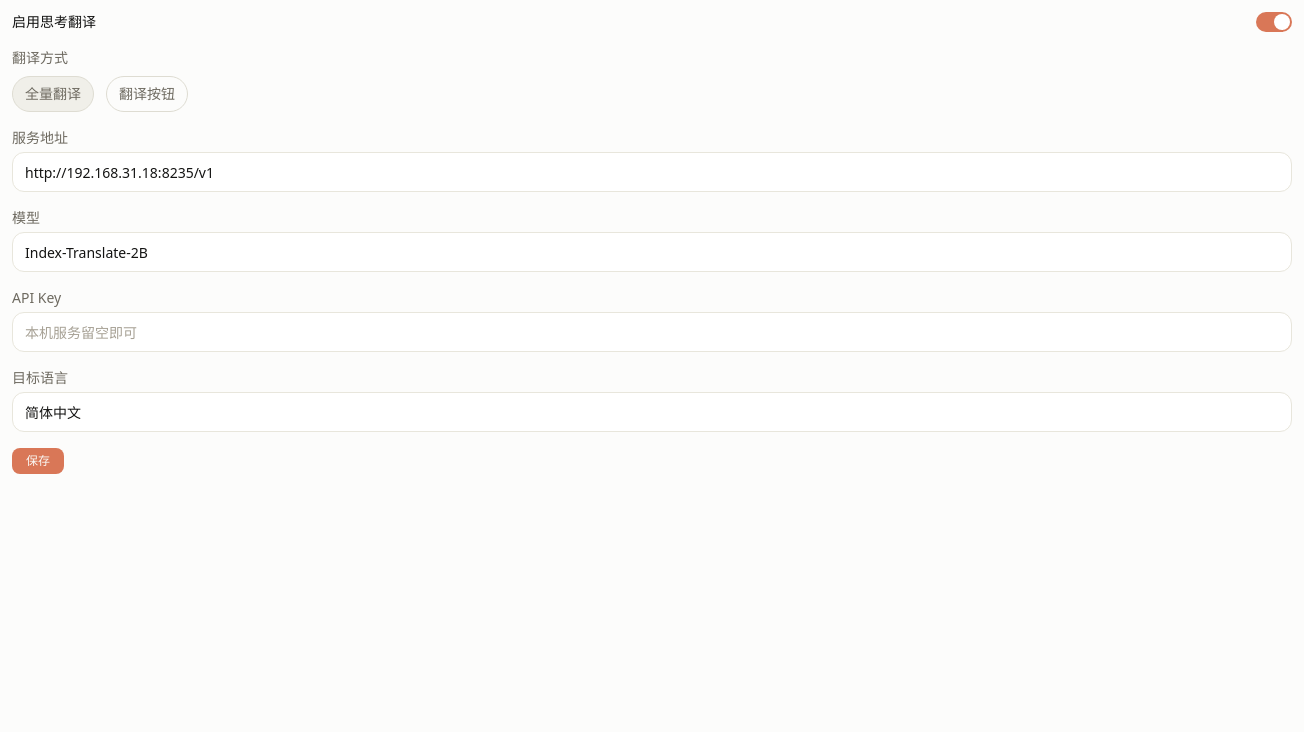
Test: 「思考翻译」组 › 落盘为空串（没配过）时表单先按预置填：贴可选 key 保存，地址与模型一并落盘
This screenshot has width=1304, height=732.
Check: the field with test id "translate-base-url" holds "http://192.168.31.18:8235/v1", box [12,152,1292,192]
Check: the field with test id "translate-model" holds "Index-Translate-2B", box [12,232,1292,272]
Type "sk-translate" into the password field with test id "translate-api-key". click: (652, 332)
box: [12,312,1292,352]
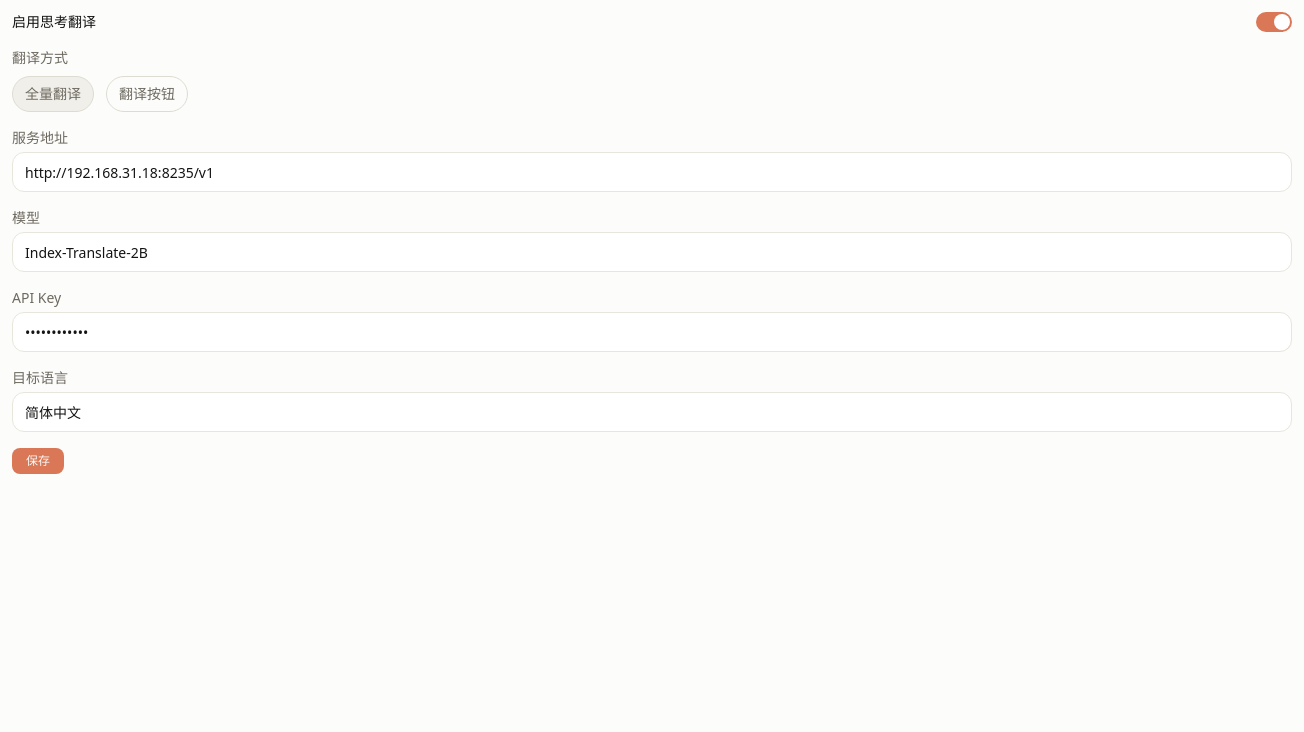
Click the button with test id "translate-save". click: click(38, 461)
box: [12,448,64,474]
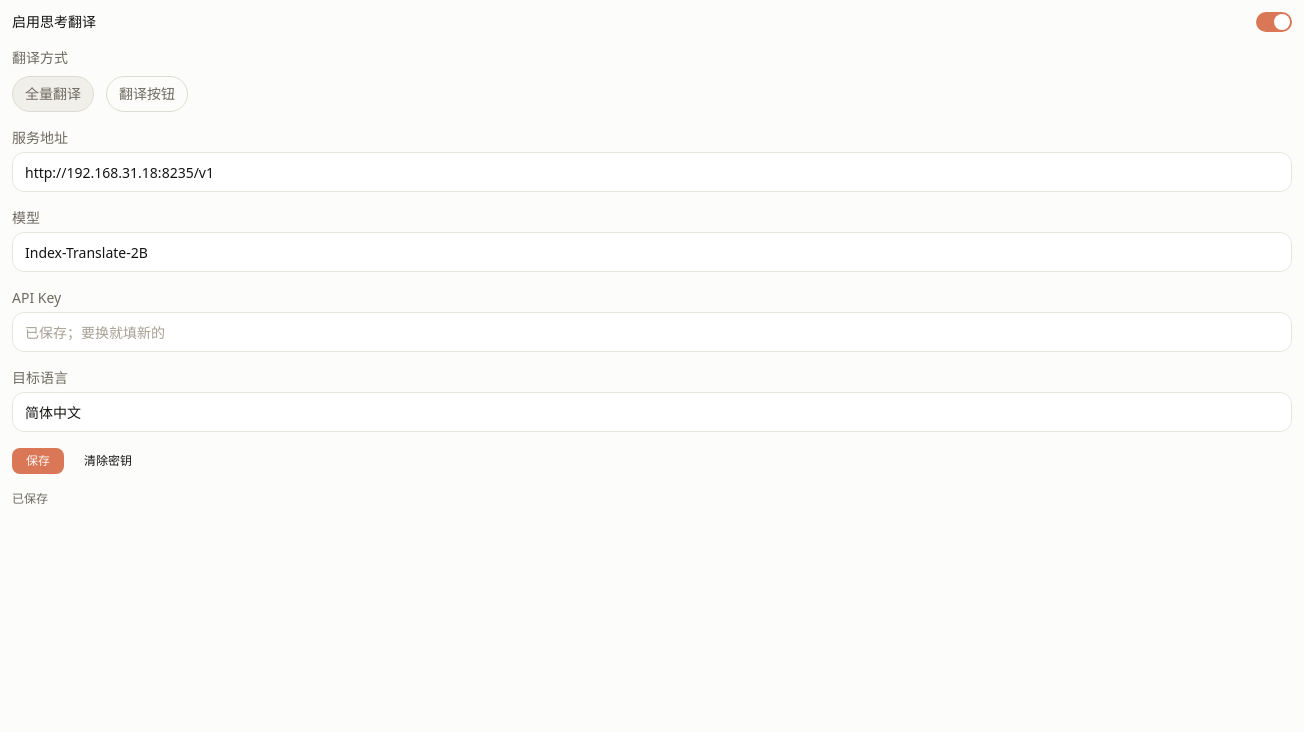
Check: the password field with test id "translate-api-key" is empty, box [12,312,1292,352]
Check: the message with test id "translate-notice" reads "已保存", box [12,490,48,507]
